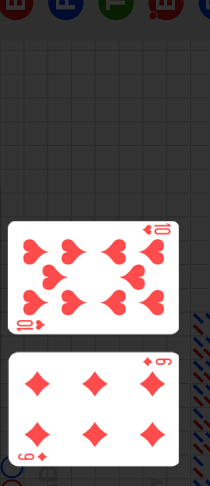10H: (140, 222, 172, 237), (15, 318, 47, 332)
